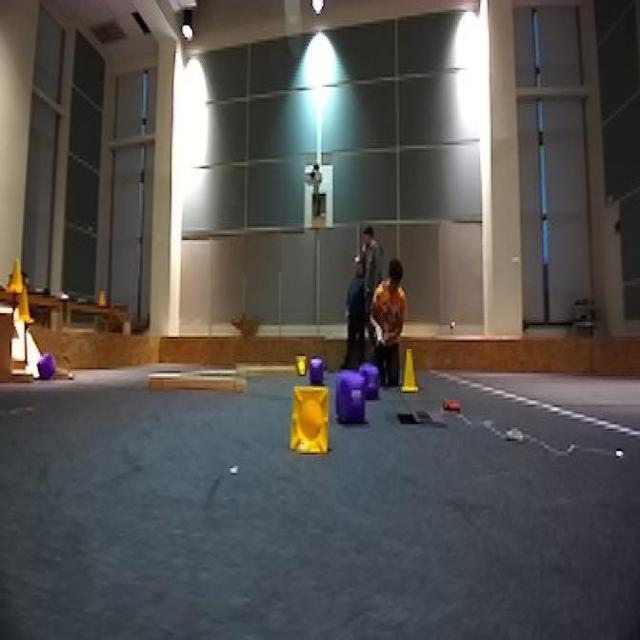frc_cone: (289, 383, 337, 463), (398, 347, 420, 392), (16, 286, 32, 330), (8, 258, 22, 300), (290, 350, 310, 372)
frc_cube: (340, 373, 369, 422), (359, 362, 382, 395), (306, 356, 324, 388), (36, 352, 52, 385)
